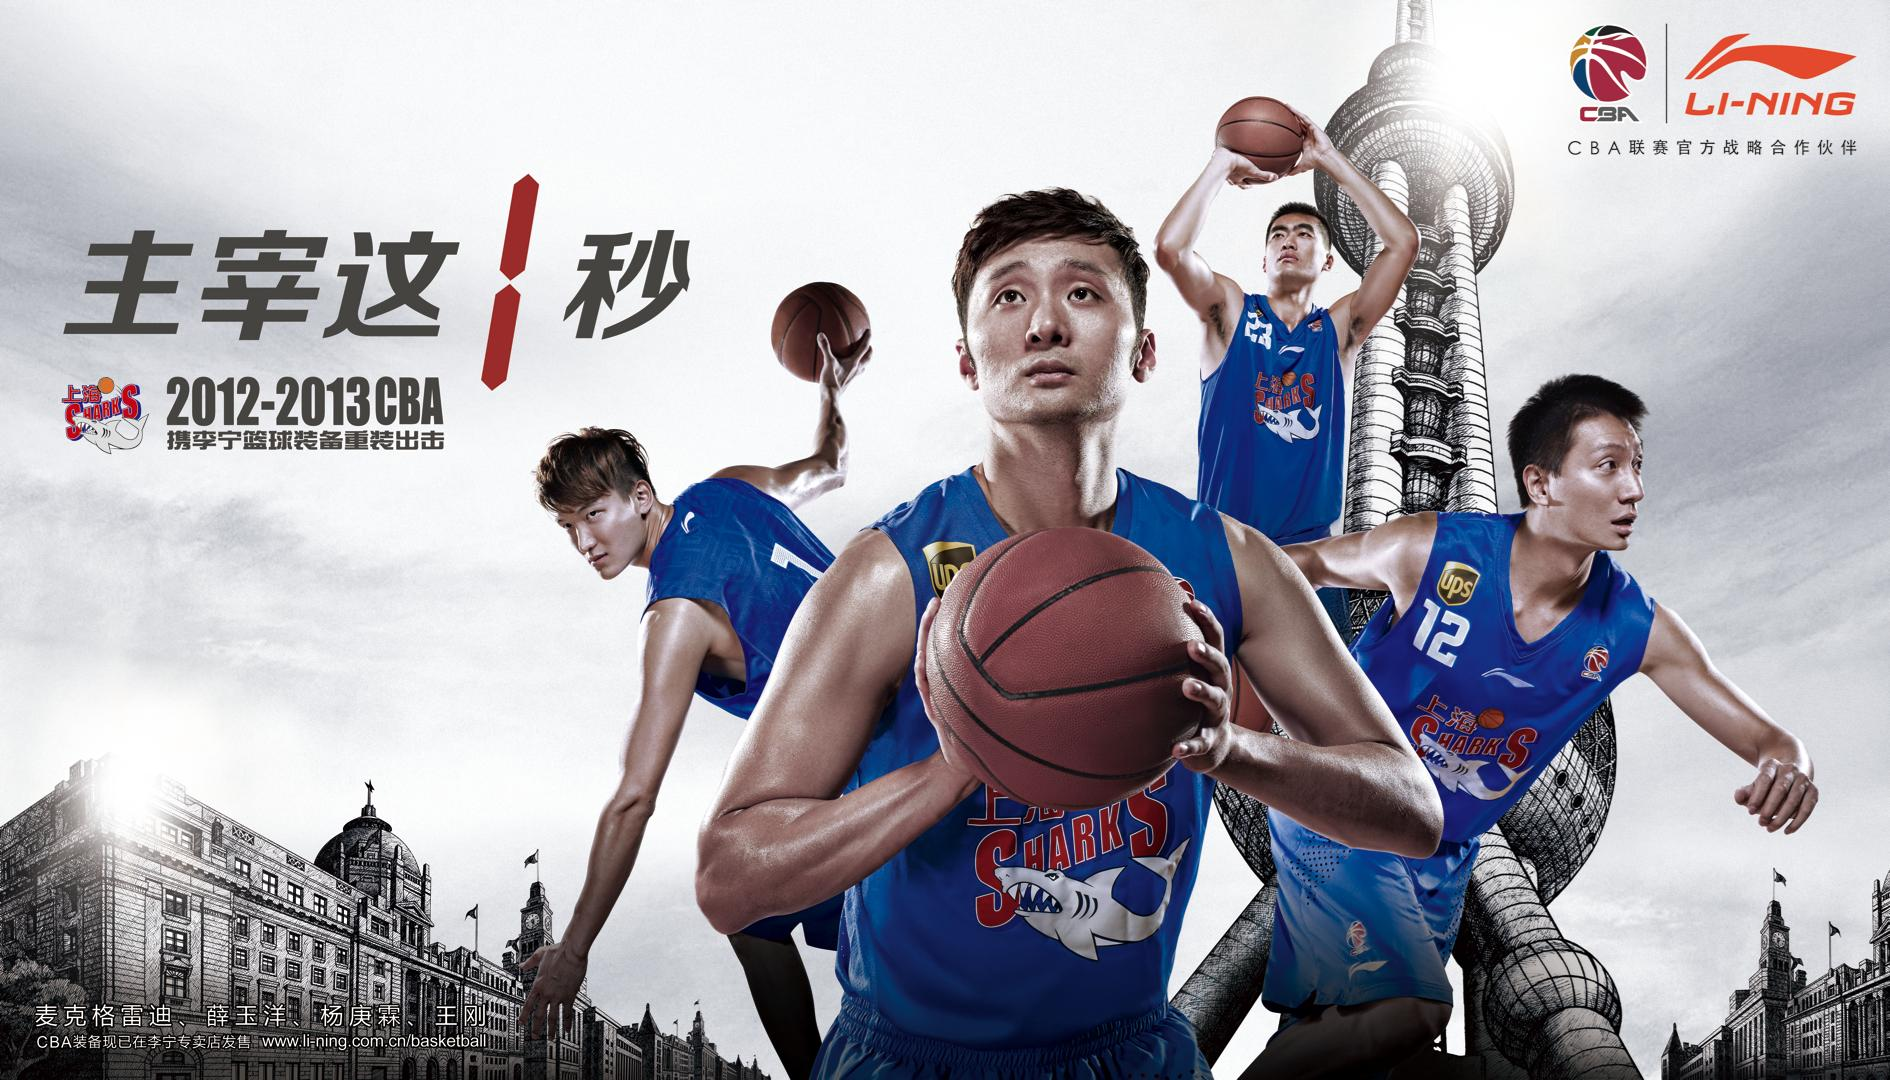ball: (922, 526, 1211, 810), (772, 280, 872, 382), (1212, 95, 1305, 188), (1572, 23, 1647, 103)
